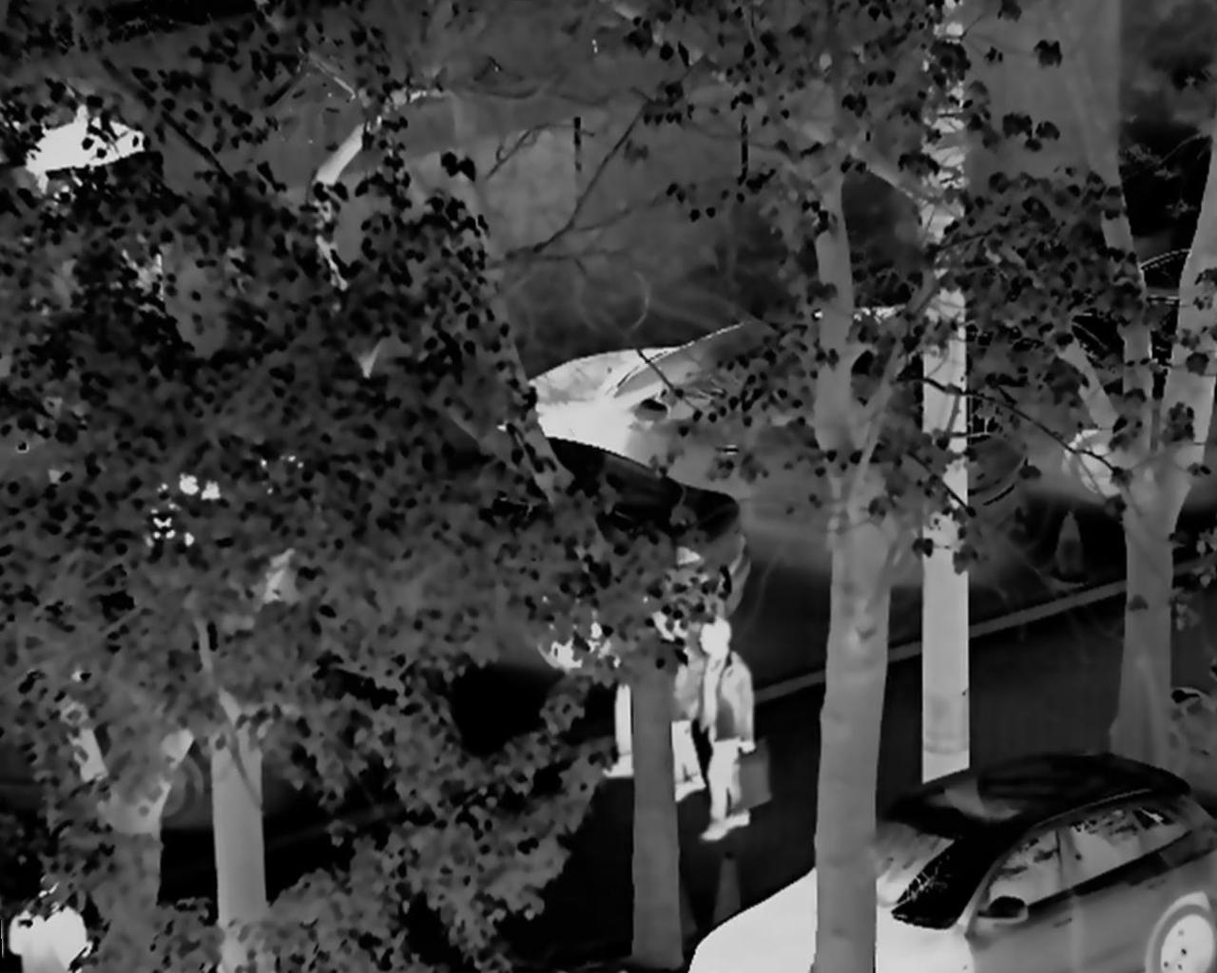person: (692, 615, 758, 836), (648, 601, 710, 799), (597, 595, 649, 778)
